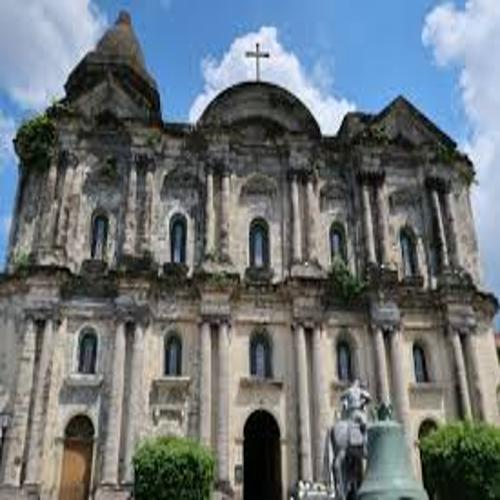Taal Basilica Church: (6, 9, 500, 494)
